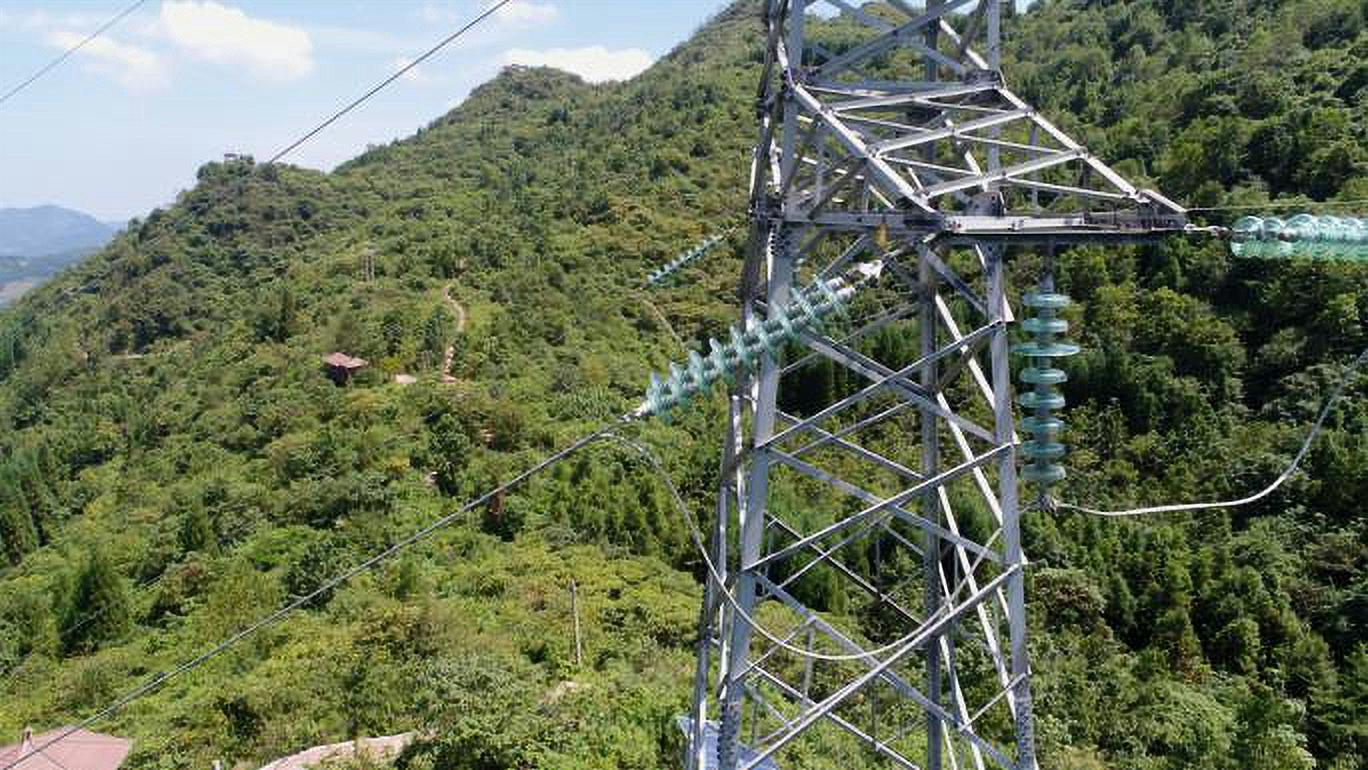insulator: (634, 270, 857, 434), (1005, 285, 1084, 494), (1224, 210, 1368, 269), (636, 228, 728, 292)
